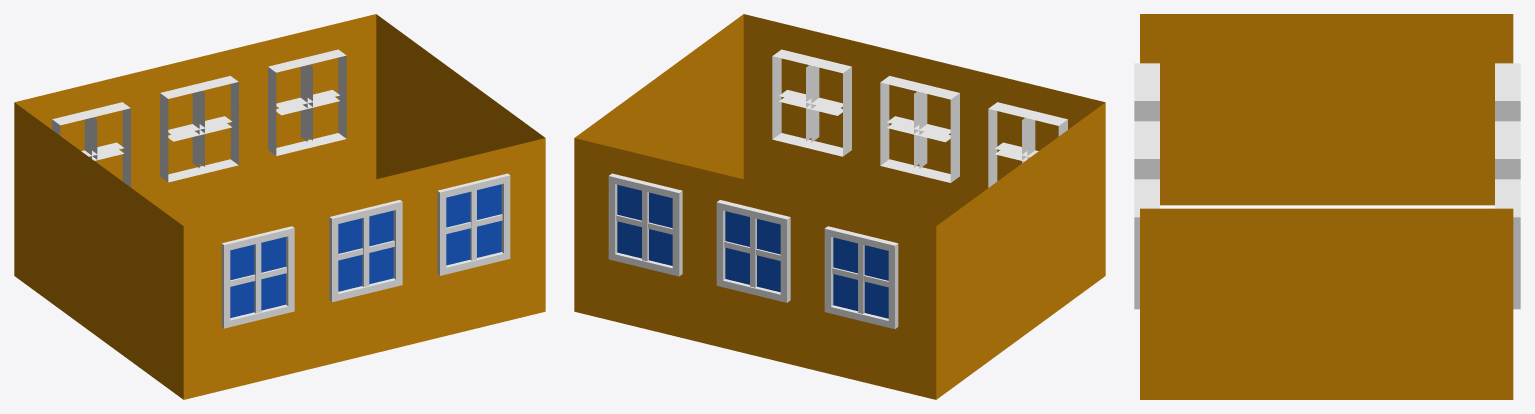
The model's file is CityBuildingB_01_flooor.fbx.
3 renders of one model, left to right at view 1: azimuth 30°, elevation 25°; view 2: azimuth 150°, elevation 25°; view 3: azimuth 270°, elevation 25°, orthographic. The views are drawn at different scales.
Parts seen in each view (by area): view 1: CityBuildingB_01_flooor; view 2: CityBuildingB_01_flooor; view 3: CityBuildingB_01_flooor.
Part boxes in pixels (bbox=[...]): CityBuildingB_01_flooor: bbox=[14, 14, 545, 399]; CityBuildingB_01_flooor: bbox=[574, 14, 1105, 399]; CityBuildingB_01_flooor: bbox=[1134, 14, 1520, 399].
Size of the model in its own units: 0.6706 by 0.3075 by 0.563.
